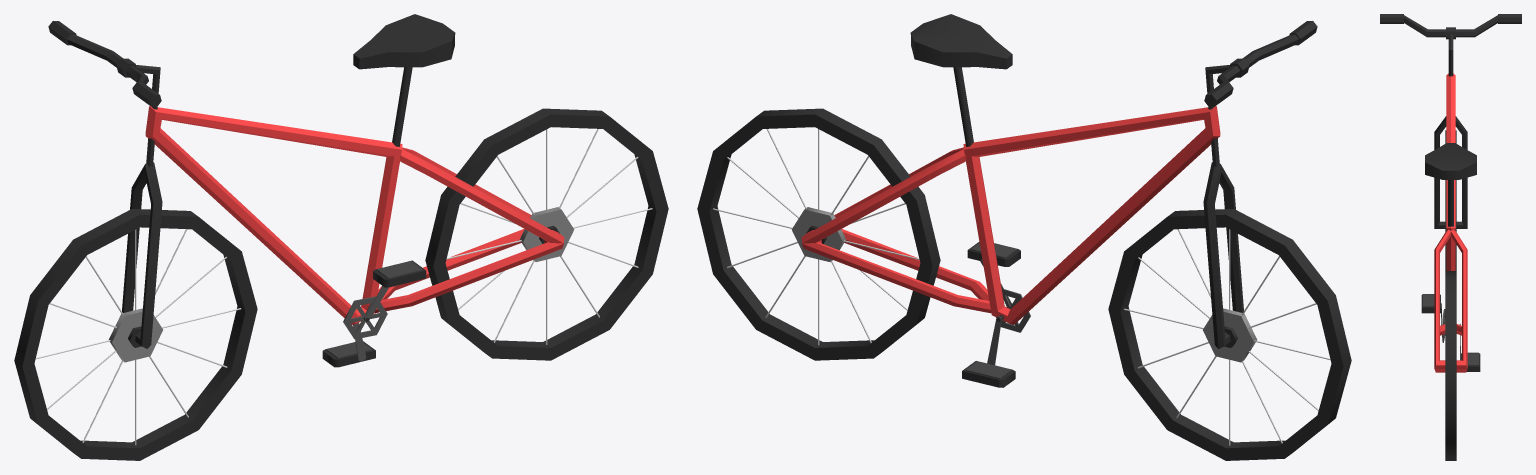
The model's file is bicycle.fbx.
3 renders of one model, left to right at view 1: azimuth 30°, elevation 25°; view 2: azimuth 150°, elevation 25°; view 3: azimuth 270°, elevation 25°, orthographic. The views are drawn at different scales.
Parts seen in each view (by area): view 1: bicycle; view 2: bicycle; view 3: bicycle.
Part boxes in pixels (left/top/right/bottom): bicycle: left=14, top=14, right=668, bottom=460; bicycle: left=697, top=14, right=1351, bottom=460; bicycle: left=1380, top=14, right=1521, bottom=460.
Bounding box in the file's own units: 2.16 × 1.3 × 0.5848.
Materials: 1 (1 with a texture image).
